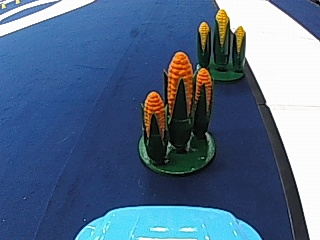corn: (136, 52, 218, 176), (193, 9, 250, 79), (137, 86, 181, 173)
